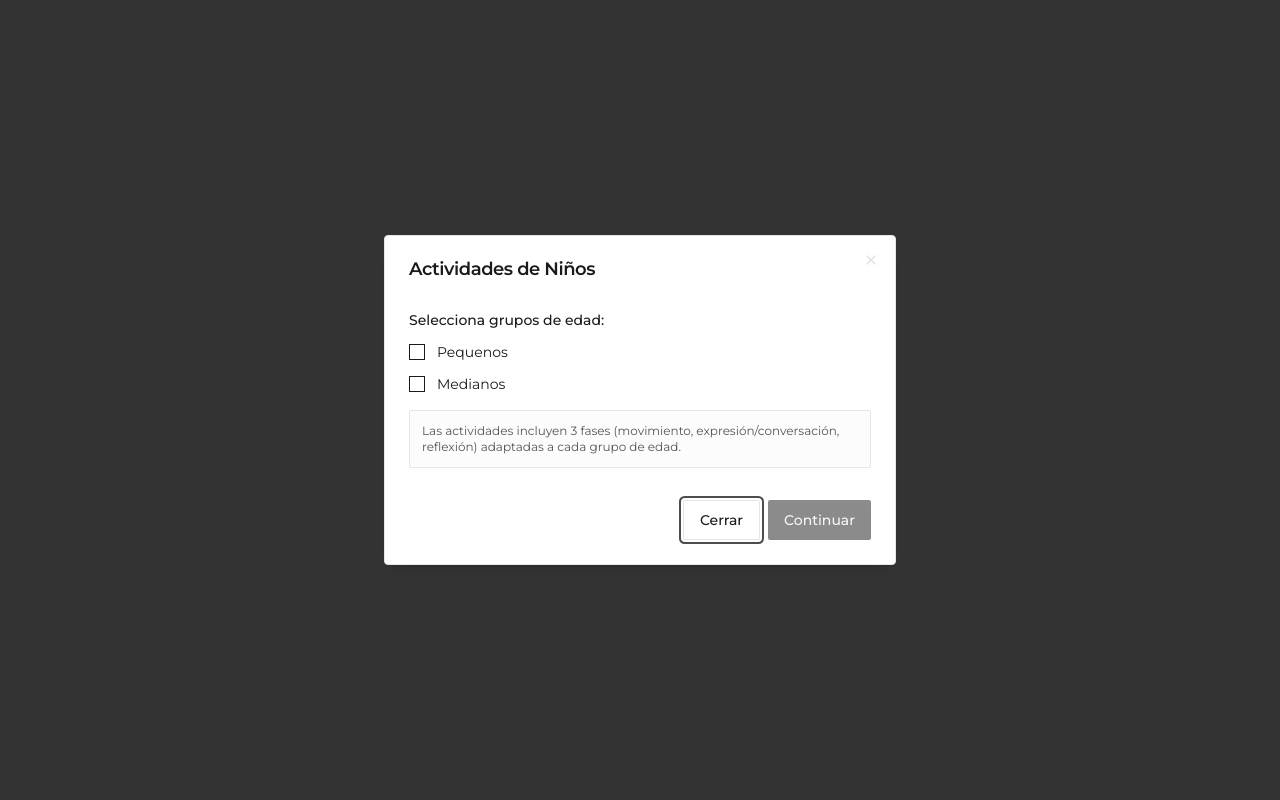
[A3] compuerta M-D10 sobre la primera carga del inventario › con más de 60 materiales preselecciona los primeros 60 y lo avisa
Step 1. Click the checkbox named "Pequenos" next to "Pequenos" → (417, 352), box [409,344,425,360]
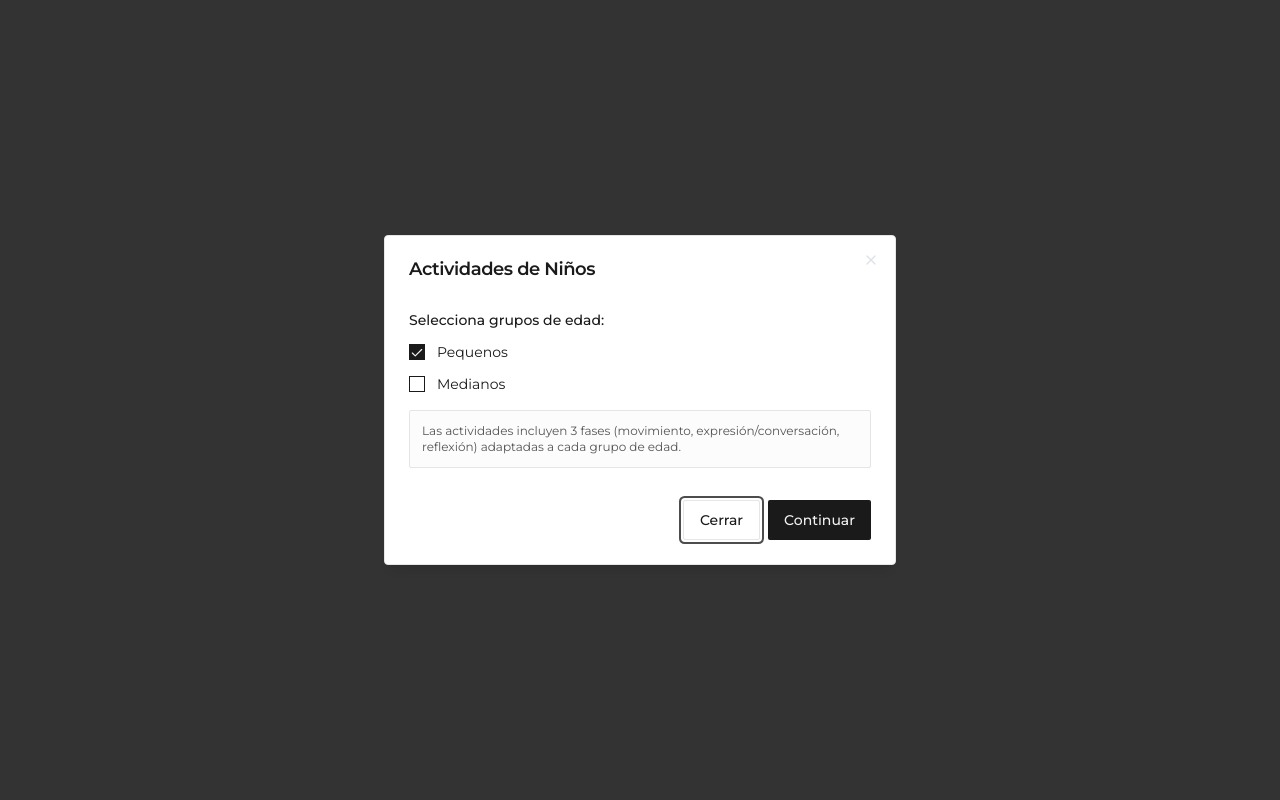
Step 2. Click the button "Continuar" → (820, 520), box [768,500,871,540]
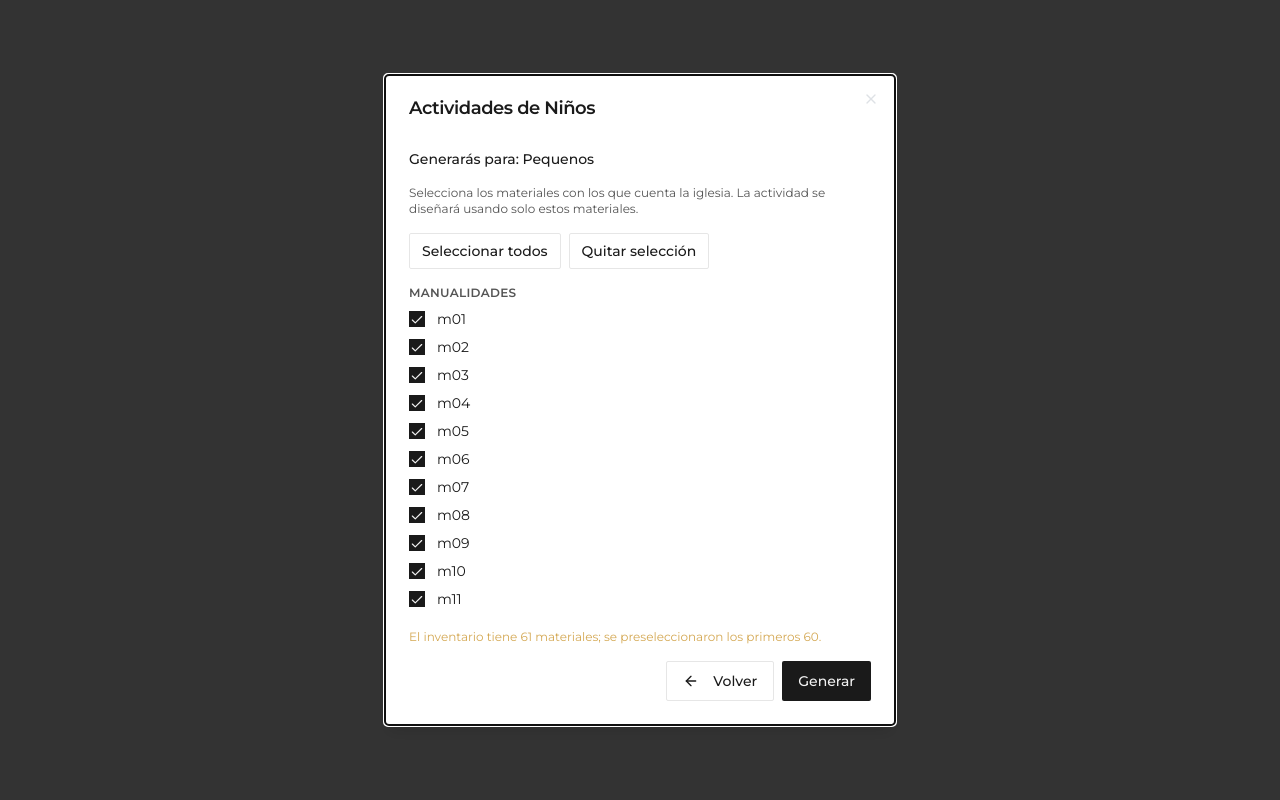
Now the button "Generar" is enabled, box [782,661,871,701]
Now the checkbox named "m01" is checked, box [409,311,425,327]
